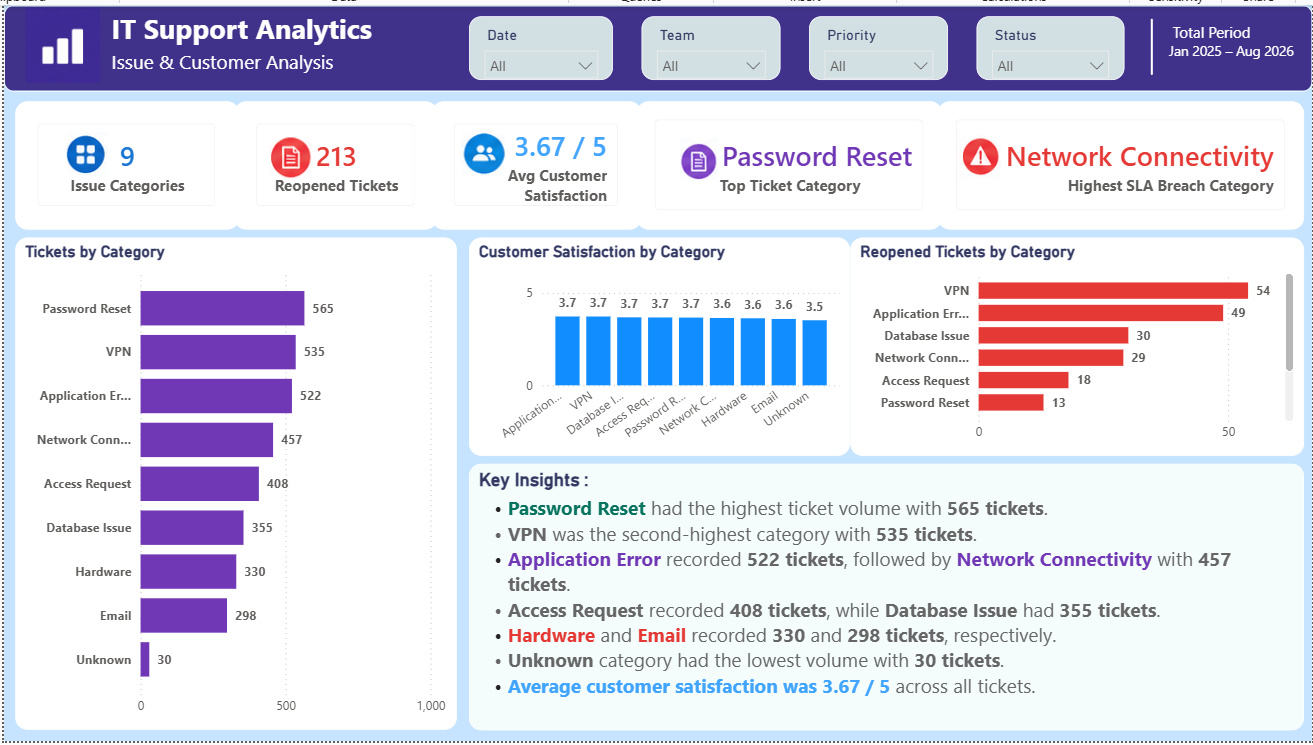

The dashboard page shown, as its layout file describes it:
{"tool":"powerbi","page":{"name":"Issue & Customer Analysis","canvas":[1280,720],"ordinal":2},"visuals":[{"type":"shape","box":[0,0,1280.3,85.1],"z":0},{"type":"textbox","box":[100.1,0,1179.9,85.7],"z":1000},{"type":"textbox","box":[100.1,37.4,300.4,48.3],"z":2000},{"type":"cardVisual","fields":{"Data":["it_support_analytics tickets.Issue Categories"]},"box":[11,94.2,218.9,126],"z":3000},{"type":"cardVisual","fields":{"Data":["it_support_analytics tickets.Reopened Tickets"]},"box":[224.7,94.2,199.3,126],"z":4000},{"type":"cardVisual","fields":{"Data":["it_support_analytics tickets.Avg Customer Satisfaction"]},"box":[418.8,94.2,205.4,126],"z":5000},{"type":"cardVisual","fields":{"Data":["it_support_analytics tickets.Top Ticket Category Display"]},"box":[619.1,94.2,299.6,126],"z":6000},{"type":"clusteredBarChart","title":"Reopened Tickets by Category","fields":{"Category":["it_support_analytics tickets.Category"],"Y":["it_support_analytics tickets.Reopened Tickets"]},"box":[827.9,227.4,443.9,214],"z":7000},{"type":"slicer","fields":{"Values":["it_support_analytics tickets.Created_Date"]},"box":[454.8,10.9,141.2,62.7],"z":8000},{"type":"slicer","fields":{"Values":["it_support_analytics tickets.Team"]},"box":[623.4,10.9,136.3,62.7],"z":9000},{"type":"slicer","fields":{"Values":["it_support_analytics tickets.Priority"]},"box":[787.2,10.9,136.3,62.7],"z":10000},{"type":"slicer","fields":{"Values":["it_support_analytics tickets.Status"]},"box":[951,10.9,144.8,62.7],"z":11000},{"type":"textbox","title":"Key Insights : ","box":[454.9,448.8,816.9,260.5],"z":12000},{"type":"cardVisual","fields":{"Data":["it_support_analytics tickets.Highest SLA Breach Category"]},"box":[913.5,94.2,358.3,126],"z":13000},{"type":"textbox","box":[1123.2,10.9,148.4,62.7],"z":14000},{"type":"shape","box":[1100.3,14,44.6,55],"z":15000},{"type":"image","box":[14.7,2,85.6,73.4],"z":16000},{"type":"image","box":[57.5,123.5,47.7,45.2],"z":17000},{"type":"image","box":[259.2,124.7,42.8,50.1],"z":18000},{"type":"image","box":[442.7,121.1,52.6,46.5],"z":19000},{"type":"image","box":[653,129.6,52.6,41.6],"z":20000},{"type":"image","box":[933,124.7,42.8,46.5],"z":21000},{"type":"clusteredBarChart","title":"Tickets by Category","fields":{"Y":["CountNonNull(it_support_analytics tickets.Ticket_ID)"],"Category":["it_support_analytics tickets.Category"]},"box":[11,227.4,431.7,481.8],"z":22000},{"type":"clusteredColumnChart","title":"Customer Satisfaction by Category","fields":{"Category":["it_support_analytics tickets.Category"],"Y":["it_support_analytics tickets.Avg Customer Satisfaction_"]},"box":[454.9,227.4,373,214],"z":23000}]}

Visuals, with their boxes in screenshot pixels (x1, y1, x2, y2), scaled from the page's 1280x720 canvas onto the 1313x745 screenshot:
shape: x1=0 y1=0 x2=1312 y2=88
textbox: x1=103 y1=0 x2=1312 y2=89
textbox: x1=103 y1=39 x2=411 y2=89
cardVisual - it_support_analytics tickets.Issue Categories: x1=11 y1=97 x2=236 y2=228
cardVisual - it_support_analytics tickets.Reopened Tickets: x1=230 y1=97 x2=435 y2=228
cardVisual - it_support_analytics tickets.Avg Customer Satisfaction: x1=430 y1=97 x2=640 y2=228
cardVisual - it_support_analytics tickets.Top Ticket Category Display: x1=635 y1=97 x2=942 y2=228
"Reopened Tickets by Category" clusteredBarChart: x1=849 y1=235 x2=1305 y2=457
slicer - it_support_analytics tickets.Created_Date: x1=467 y1=11 x2=611 y2=76
slicer - it_support_analytics tickets.Team: x1=639 y1=11 x2=779 y2=76
slicer - it_support_analytics tickets.Priority: x1=807 y1=11 x2=947 y2=76
slicer - it_support_analytics tickets.Status: x1=976 y1=11 x2=1124 y2=76
"Key Insights : " textbox: x1=467 y1=464 x2=1305 y2=734
cardVisual - it_support_analytics tickets.Highest SLA Breach Category: x1=937 y1=97 x2=1305 y2=228
textbox: x1=1152 y1=11 x2=1304 y2=76
shape: x1=1129 y1=14 x2=1174 y2=71
image: x1=15 y1=2 x2=103 y2=78
image: x1=59 y1=128 x2=108 y2=175
image: x1=266 y1=129 x2=310 y2=181
image: x1=454 y1=125 x2=508 y2=173
image: x1=670 y1=134 x2=724 y2=177
image: x1=957 y1=129 x2=1001 y2=177
"Tickets by Category" clusteredBarChart: x1=11 y1=235 x2=454 y2=734
"Customer Satisfaction by Category" clusteredColumnChart: x1=467 y1=235 x2=849 y2=457
